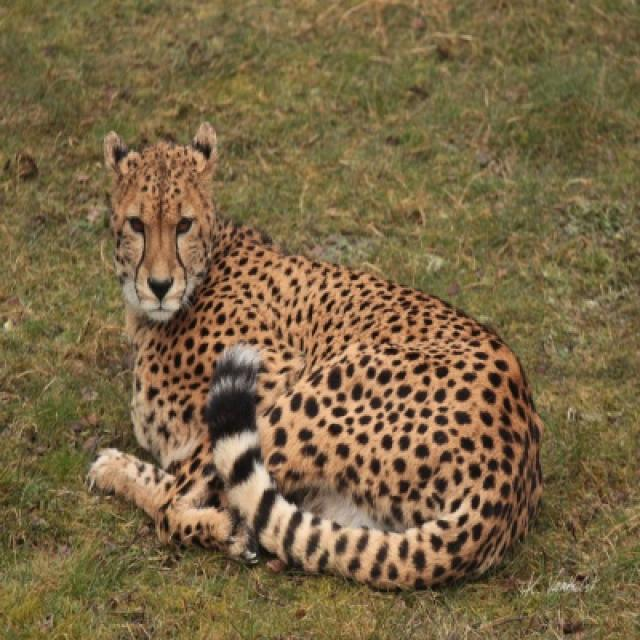Cheetah: (79, 124, 546, 589)
